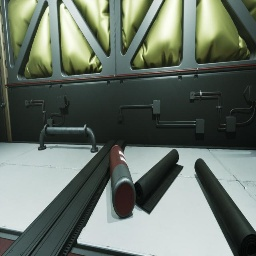NitrogenTank ,: (109, 145, 136, 218)
